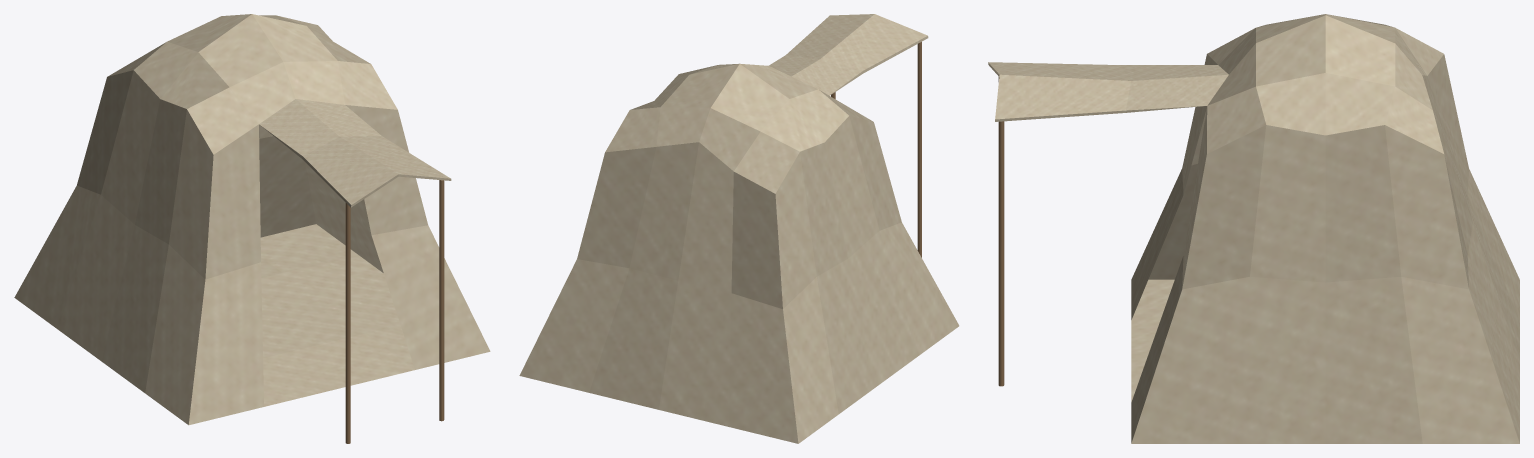
File: MKU_fest_tent_sqTent_fin.fbx
The picture shows the model from 3 angles, left to right: view 1: azimuth 30°, elevation 25°; view 2: azimuth 150°, elevation 25°; view 3: azimuth 270°, elevation 25°; orthographic projection. The views are drawn at different scales.
Parts seen in each view (by area): view 1: tent 2; view 2: tent 2; view 3: tent 2.
Part boxes in pixels (box(x1,y1,x2,y2)): tent 2: box(14, 14, 490, 443); tent 2: box(519, 14, 959, 443); tent 2: box(988, 14, 1519, 443).
Bounding box in the file's own units: 227 × 223 × 310.
